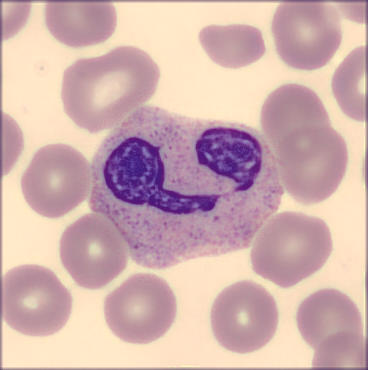WBC: (89, 103, 291, 271)
